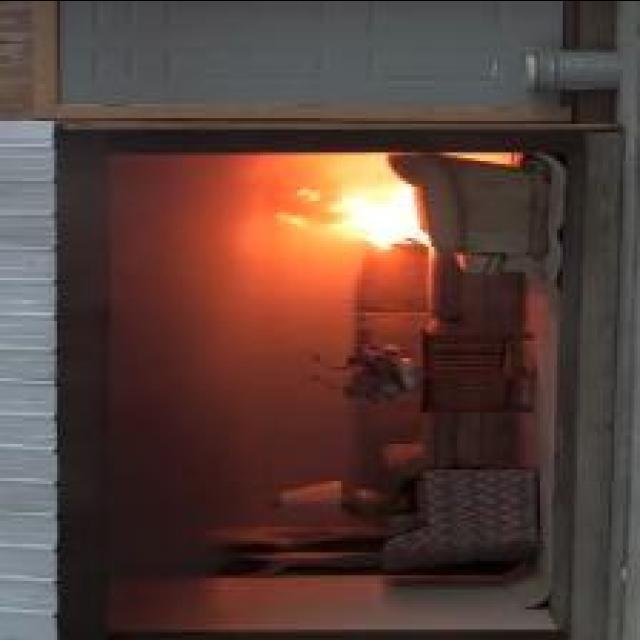Fire: (281, 178, 428, 250)
